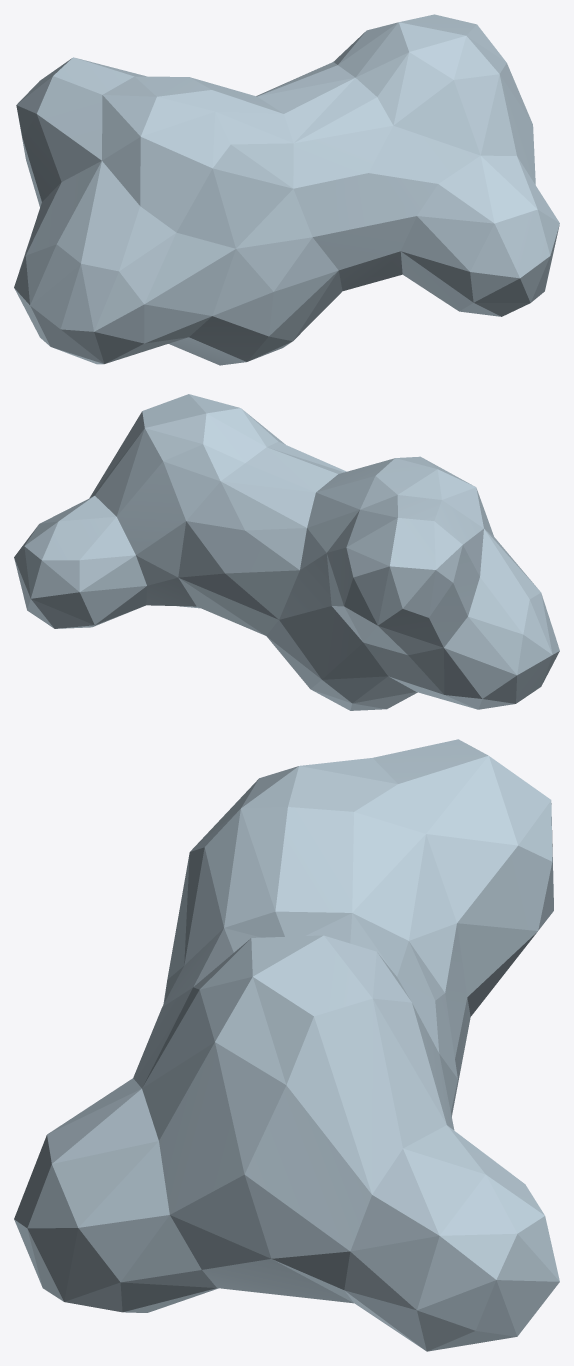
The model's file is medium_cloud_4.fbx.
The picture shows the model from 3 angles, top to bottom: view 1: azimuth 30°, elevation 25°; view 2: azimuth 150°, elevation 25°; view 3: azimuth 270°, elevation 25°; orthographic projection. The views are drawn at different scales.
Visible parts, largest first — view 1: cloud_54; view 2: cloud_54; view 3: cloud_54.
Boxes of the visible parts, bbox=[...] form: cloud_54: bbox=[14, 14, 559, 365]; cloud_54: bbox=[14, 394, 559, 710]; cloud_54: bbox=[14, 739, 559, 1351].
Size of the model in its own units: 475 by 244 by 284.
